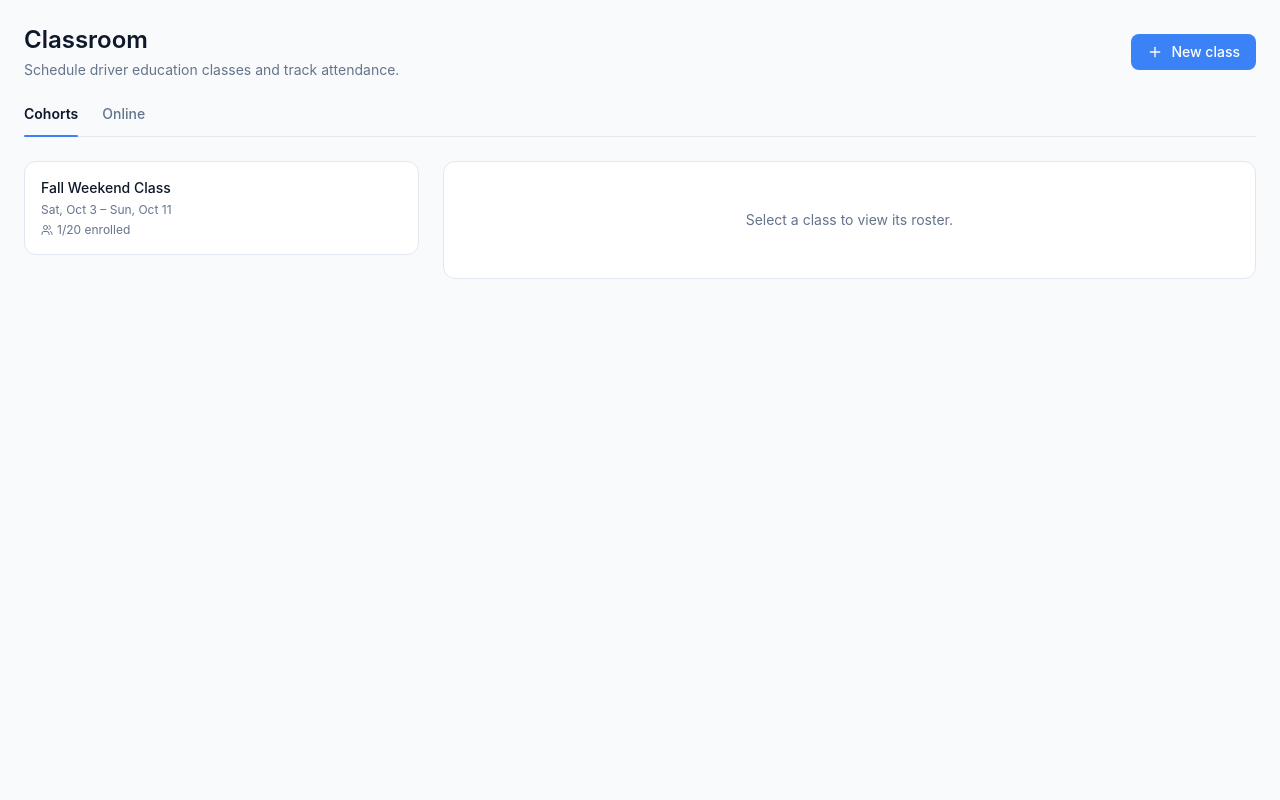
Scenario: Classroom page - roster › opens the Add student panel from the roster header
Click the text "Fall Weekend Class" at (106, 188), box x1=41 y1=178 x2=171 y2=198
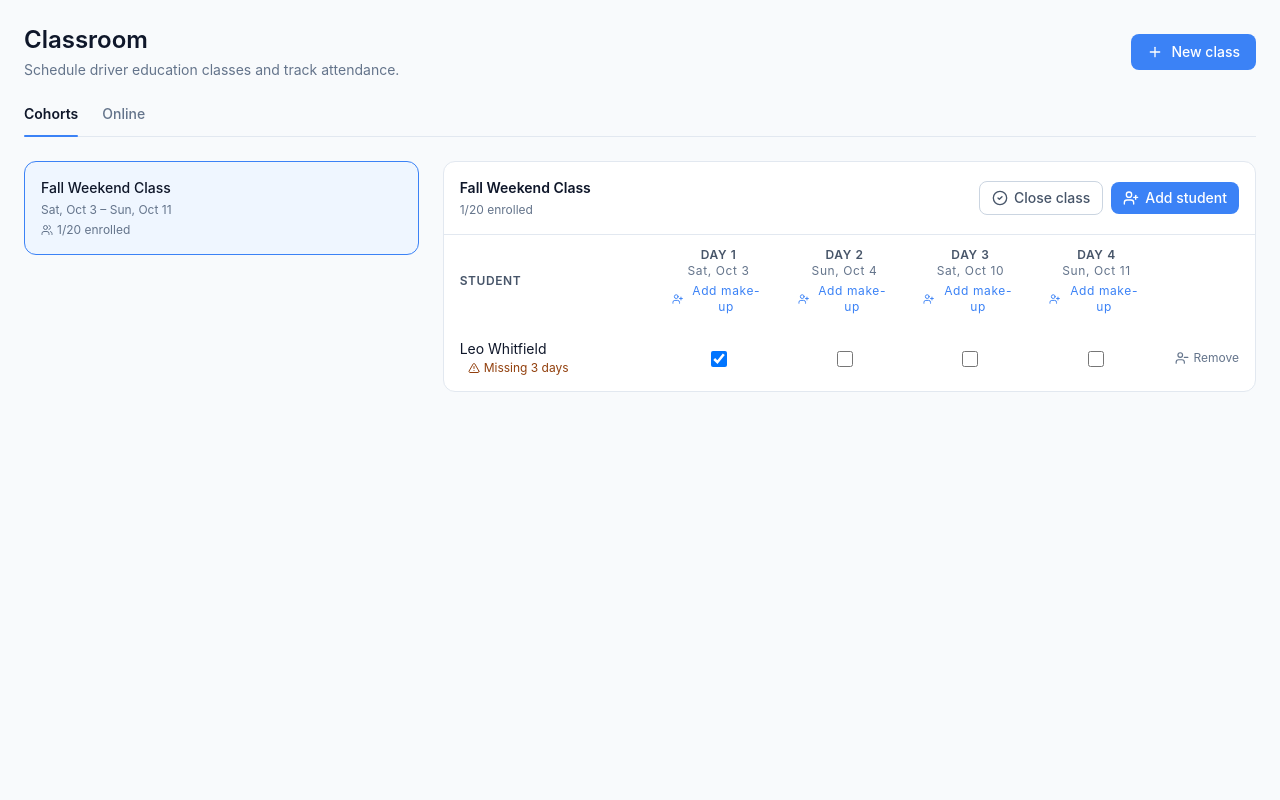
Result: the text "Leo Whitfield" is shown at x1=460 y1=340 x2=546 y2=357
Click the button "Add student" at (1175, 198), box x1=1111 y1=182 x2=1239 y2=214
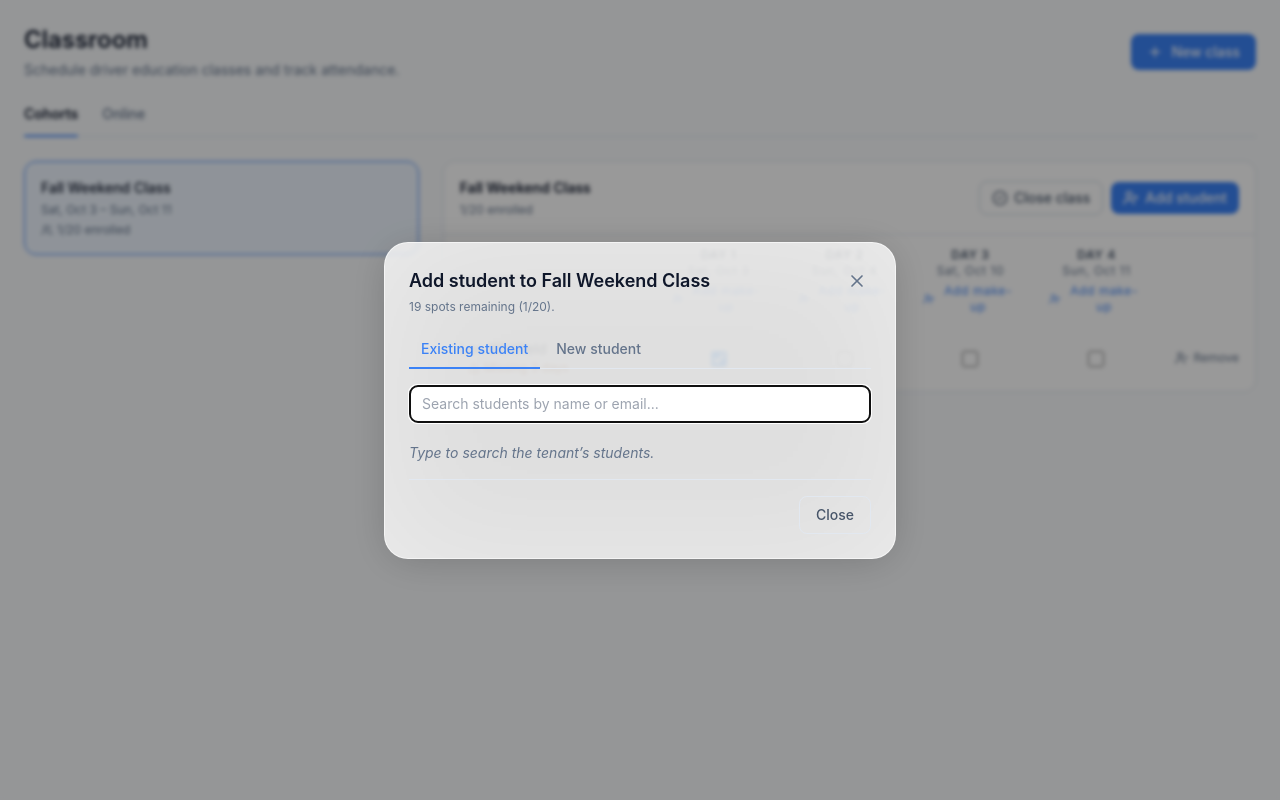
Result: the heading "Add student to Fall Weekend Class" is shown at x1=409 y1=266 x2=710 y2=294
